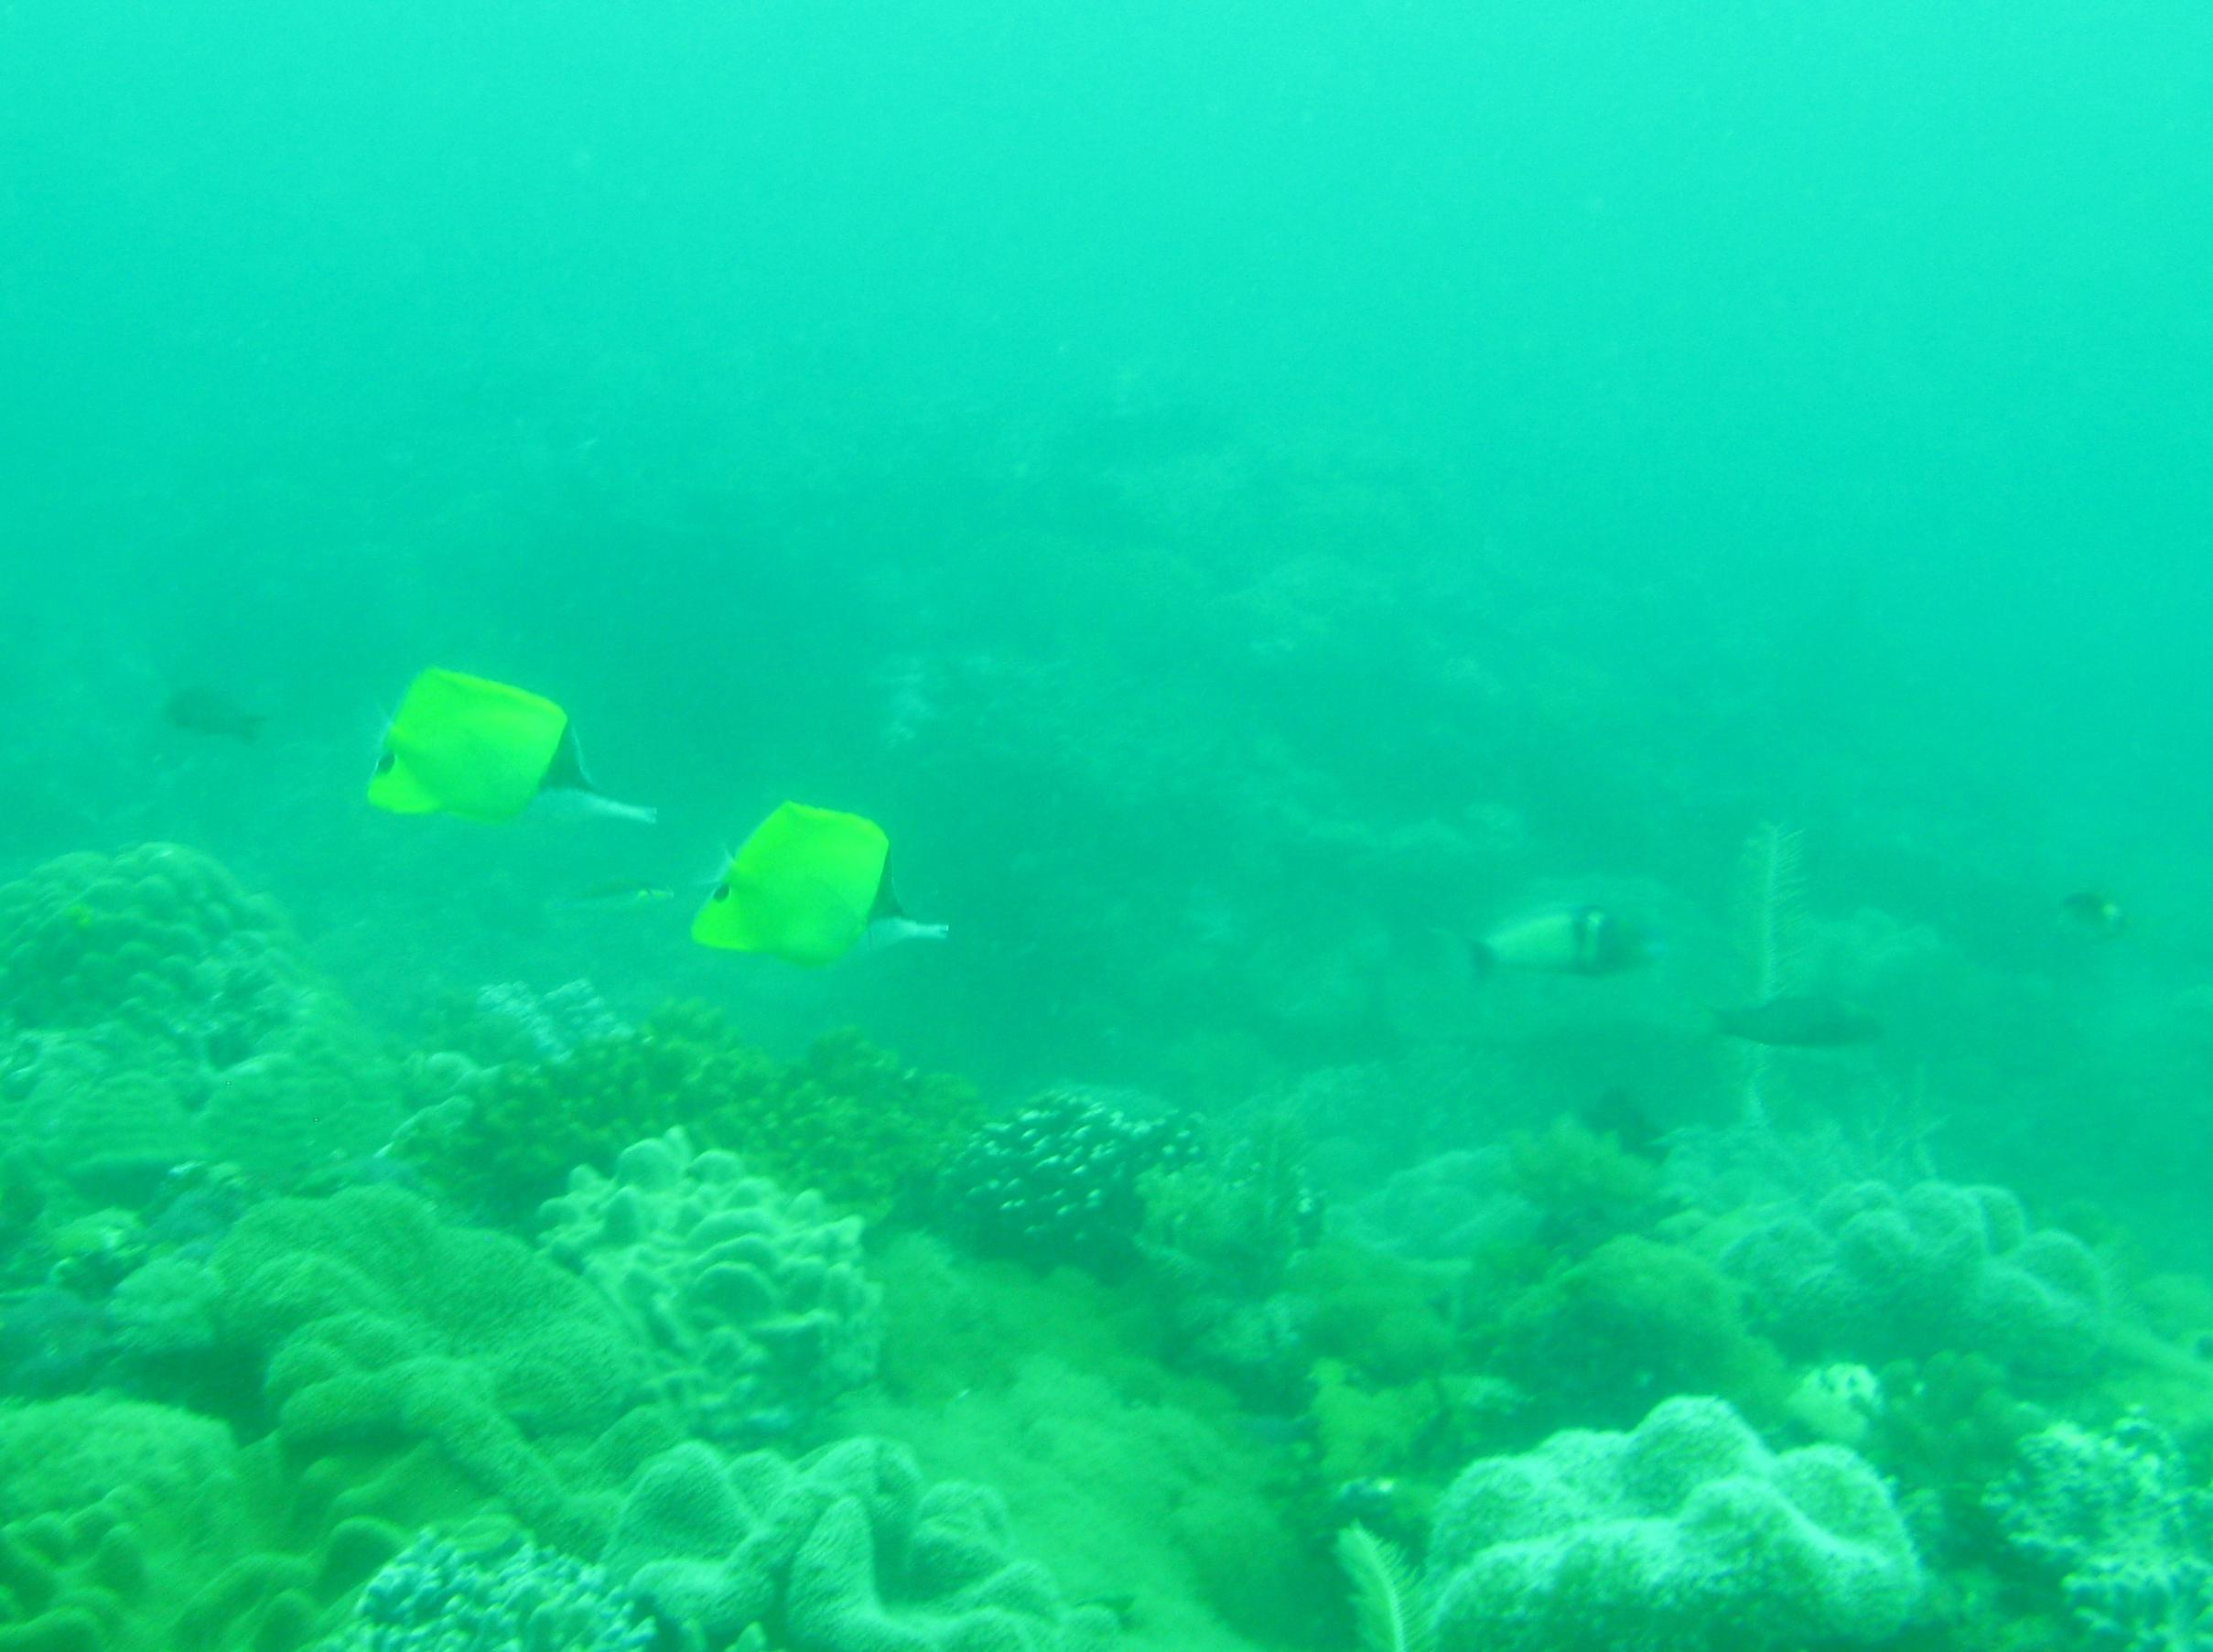Fish: (354, 656, 677, 854), (684, 788, 962, 984)
